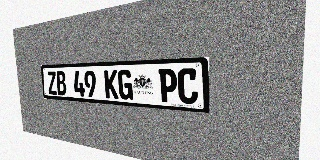4: (73, 71, 85, 97)
9: (84, 70, 97, 97)
B: (56, 71, 67, 95)
C: (177, 68, 198, 104)
G: (117, 70, 133, 100)
K: (104, 70, 118, 99)
P: (158, 69, 177, 103)
Z: (47, 71, 57, 95)
